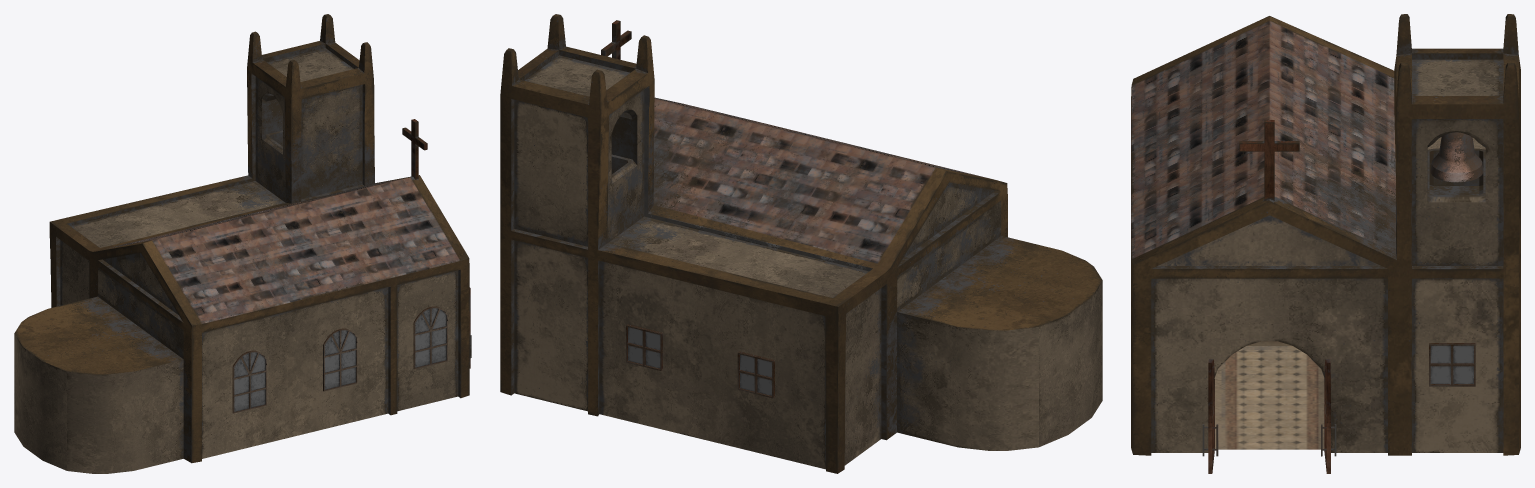
File: Chapel.fbx
3 renders of one model, left to right at view 1: azimuth 30°, elevation 25°; view 2: azimuth 150°, elevation 25°; view 3: azimuth 270°, elevation 25°, orthographic. The views are drawn at different scales.
Parts seen in each view (by area): view 1: Cube.007; view 2: Cube.007; view 3: Cube.007.
Part boxes in pixels (x1,y1,x2,y2): Cube.007: (14, 14, 471, 473); Cube.007: (500, 14, 1102, 473); Cube.007: (1131, 14, 1520, 473).
Size of the model in its own units: 2480 by 1604 by 1462.
